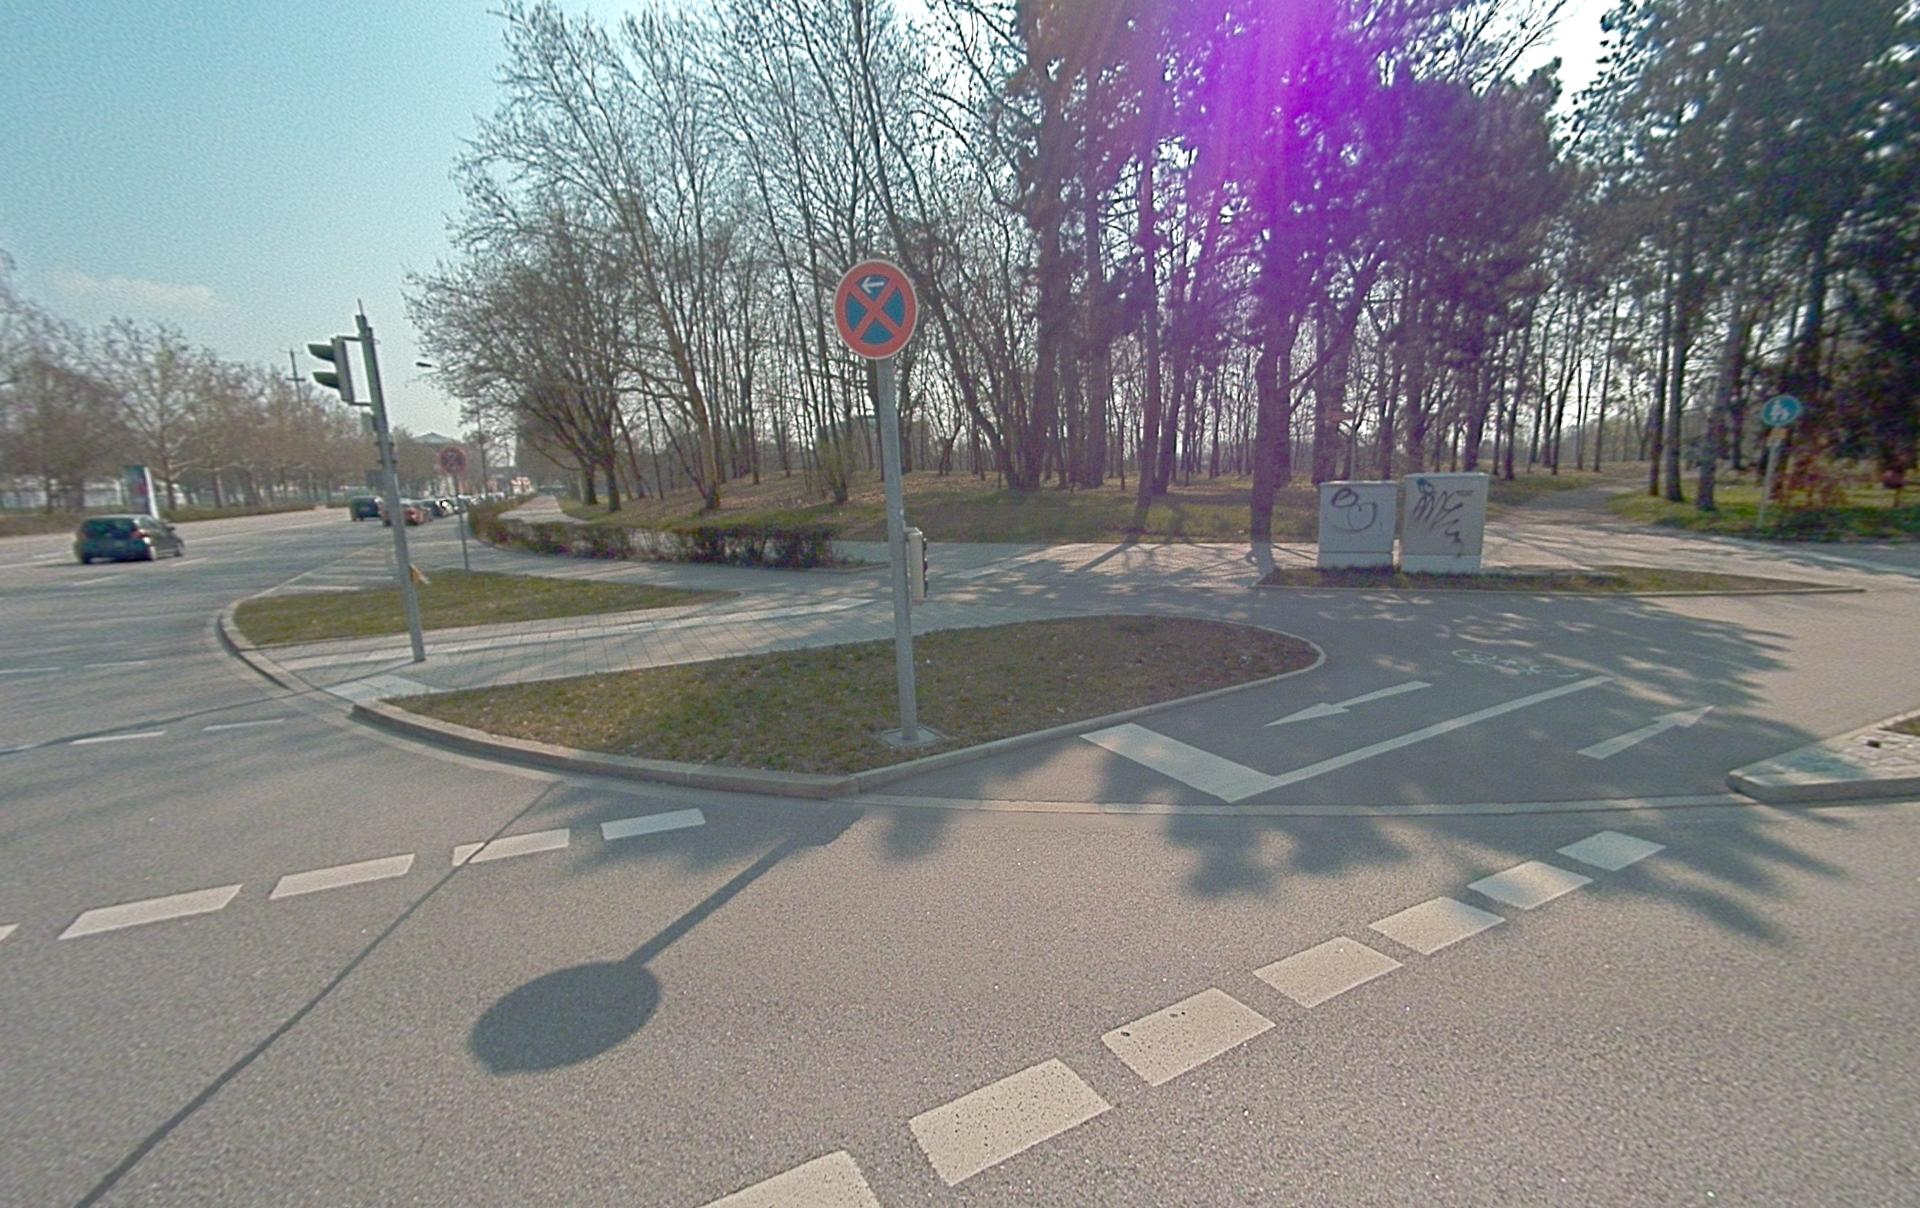car: (74, 514, 185, 565), (380, 498, 426, 526)
traffic sign: (833, 259, 918, 360), (1761, 394, 1803, 427)
